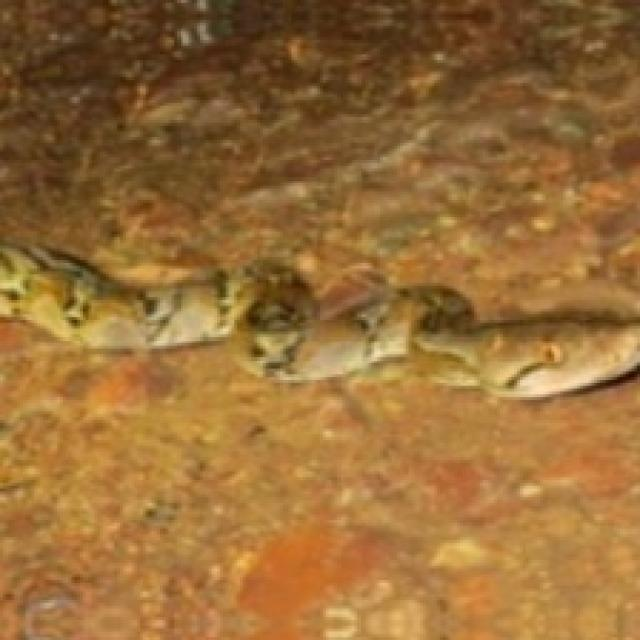reticulated python: (0, 240, 637, 397)
